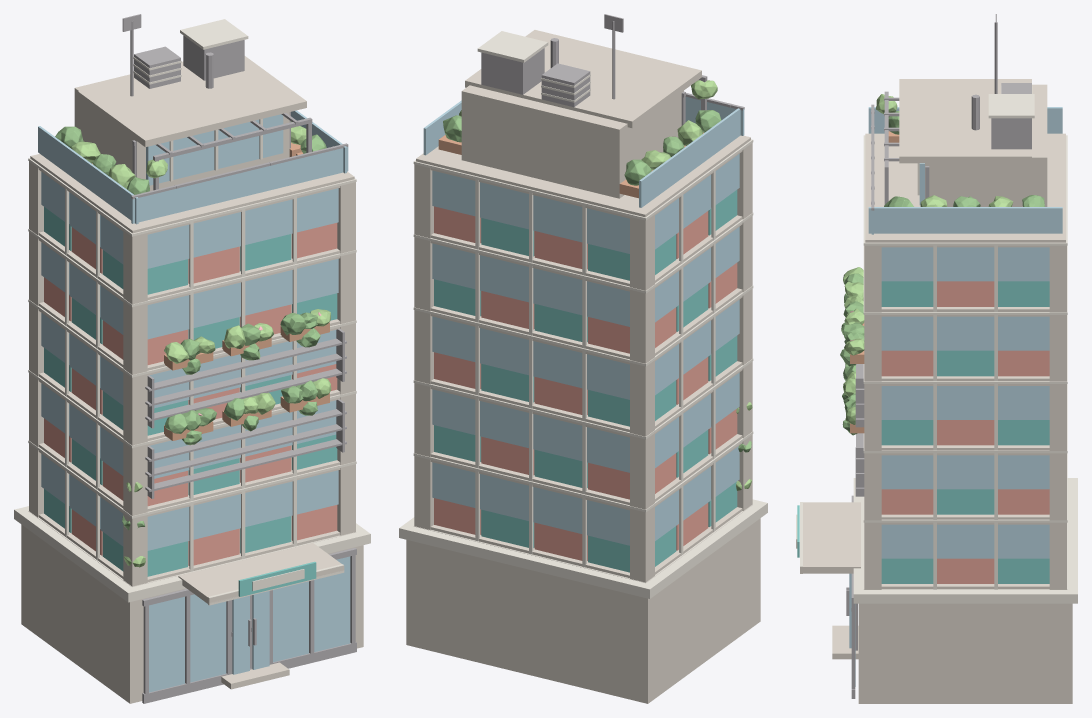
File: Modern_B.fbx
3 views of the same model, side by side, from view 1: azimuth 30°, elevation 25°; view 2: azimuth 150°, elevation 25°; view 3: azimuth 270°, elevation 25° (orthographic). The views are drawn at different scales.
Parts seen in each view (by area): view 1: Modern_B, Modern_B_Veg; view 2: Modern_B, Modern_B_Veg; view 3: Modern_B, Modern_B_Veg.
Part boxes in pixels (x1,y1,x2,y2): Modern_B: (14, 14, 370, 703); Modern_B_Veg: (55, 121, 331, 567); Modern_B: (399, 14, 767, 703); Modern_B_Veg: (443, 80, 752, 490); Modern_B: (796, 14, 1077, 703); Modern_B_Veg: (840, 94, 1044, 435).
Bounding box in the file's own units: 5.4 × 13.16 × 5.52.
